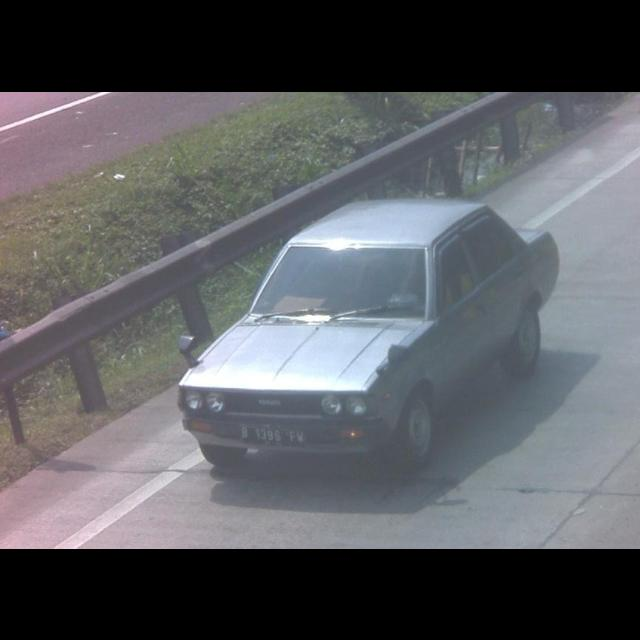plate: (242, 422, 306, 448)
